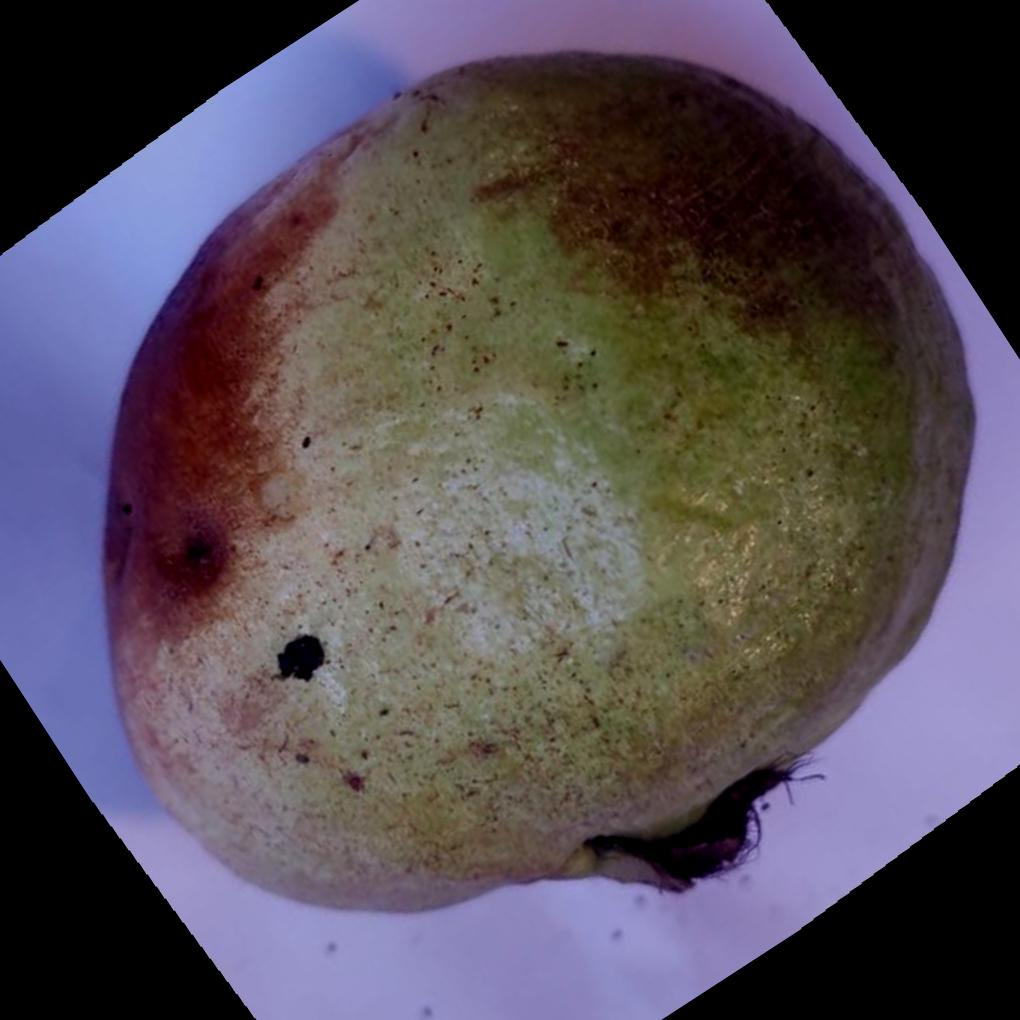FreshOrange: (98, 50, 975, 918)
